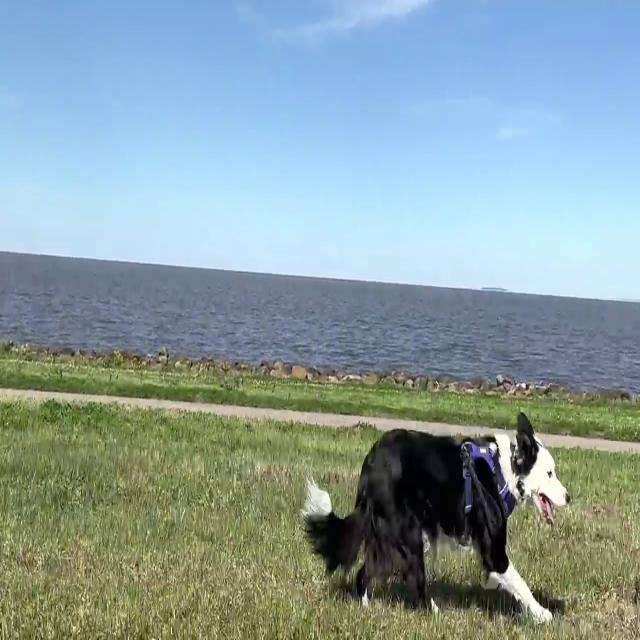Dog: (300, 411, 570, 625)
